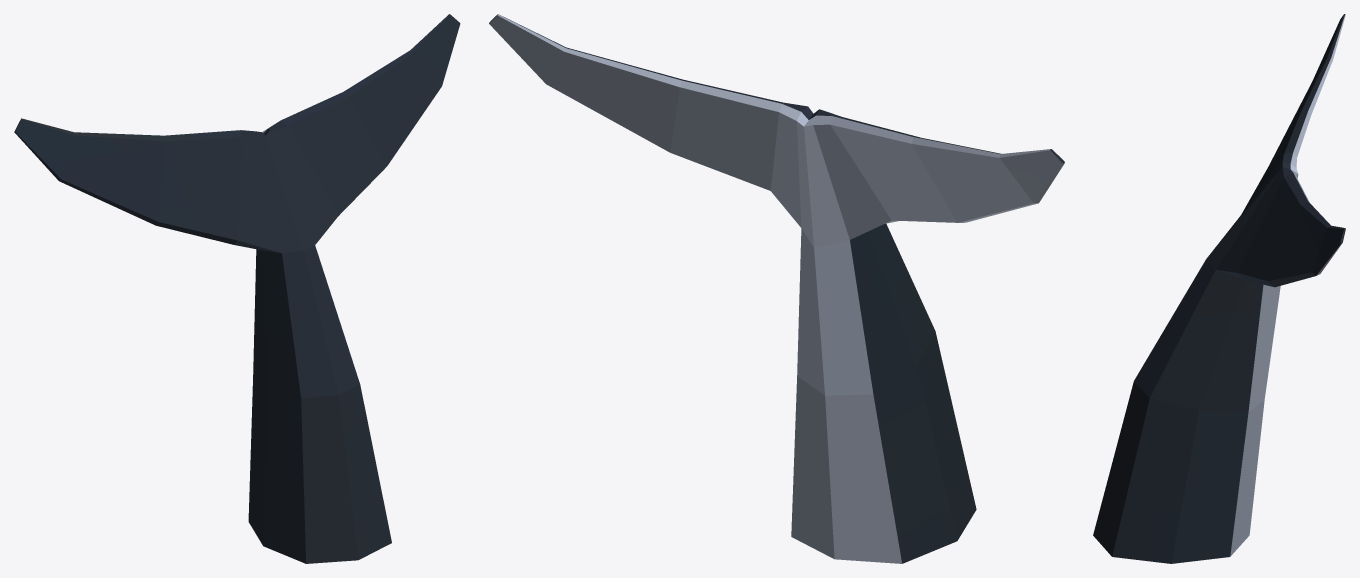
The model's file is nature-whale-tail-249.glb.
3 renders of one model, left to right at view 1: azimuth 30°, elevation 25°; view 2: azimuth 150°, elevation 25°; view 3: azimuth 270°, elevation 25°, orthographic. The views are drawn at different scales.
Visible parts, largest first — view 1: Geo_WhaleTail; view 2: Geo_WhaleTail; view 3: Geo_WhaleTail.
Boxes of the visible parts, bbox=[...] form: Geo_WhaleTail: bbox=[14, 14, 460, 563]; Geo_WhaleTail: bbox=[489, 14, 1064, 563]; Geo_WhaleTail: bbox=[1093, 14, 1345, 563].
Bounding box in the file's own units: 112 × 96.8 × 53.55.
Materials: 1 (1 with a texture image).
